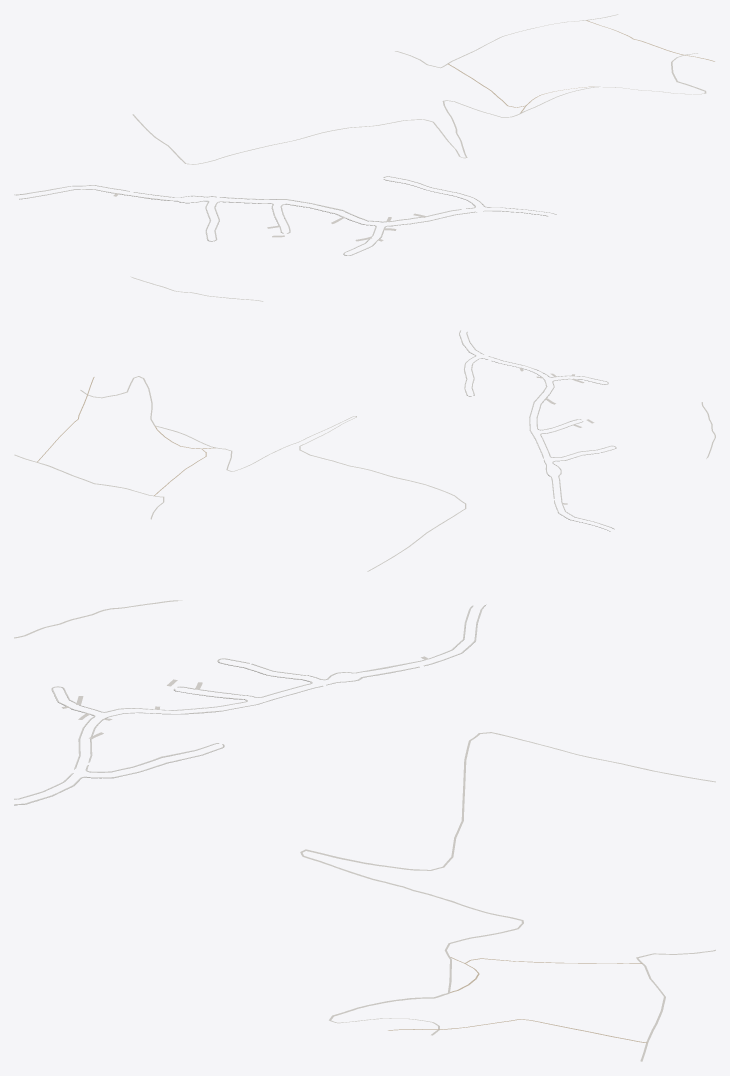
Rendered from ground_r6_c2.glb.
3 views of the same model, one above another, from view 1: azimuth 30°, elevation 25°; view 2: azimuth 150°, elevation 25°; view 3: azimuth 270°, elevation 25° (orthographic). The views are drawn at different scales.
Visible parts, largest first — view 1: sidewalks, paths; view 2: paths, sidewalks; view 3: paths, sidewalks.
Part boxes in pixels (<box>): sidewalks: <box>14,176,556,255</box>; paths: <box>130,14,714,301</box>; paths: <box>14,376,715,571</box>; sidewalks: <box>459,330,616,531</box>; paths: <box>14,600,715,1061</box>; sidewalks: <box>14,605,485,805</box>.
Size of the model in its own units: 1125 by 98.6 by 788.
